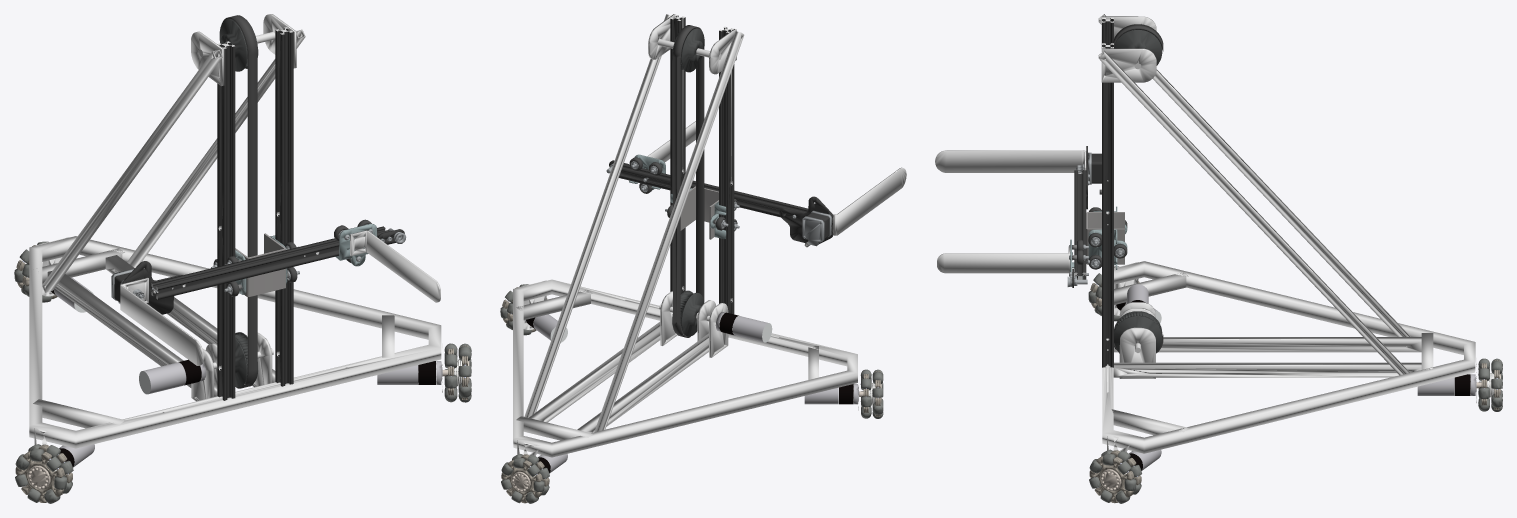
File: robocon-prototype.glb
3 renders of one model, left to right at view 1: azimuth 30°, elevation 25°; view 2: azimuth 150°, elevation 25°; view 3: azimuth 270°, elevation 25°, orthographic. The views are drawn at different scales.
Parts seen in each view (by area): view 1: E plate-1; view 2: E plate-1; view 3: E plate-1.
Boxes of the visible parts, x1,y1,x2,y2 form: E plate-1: (14, 14, 471, 503); E plate-1: (500, 14, 906, 503); E plate-1: (935, 14, 1502, 503).
Bounding box in the file's own units: 0.7845 × 0.6968 × 0.9353.
Materials: 2 (2 with a texture image).
